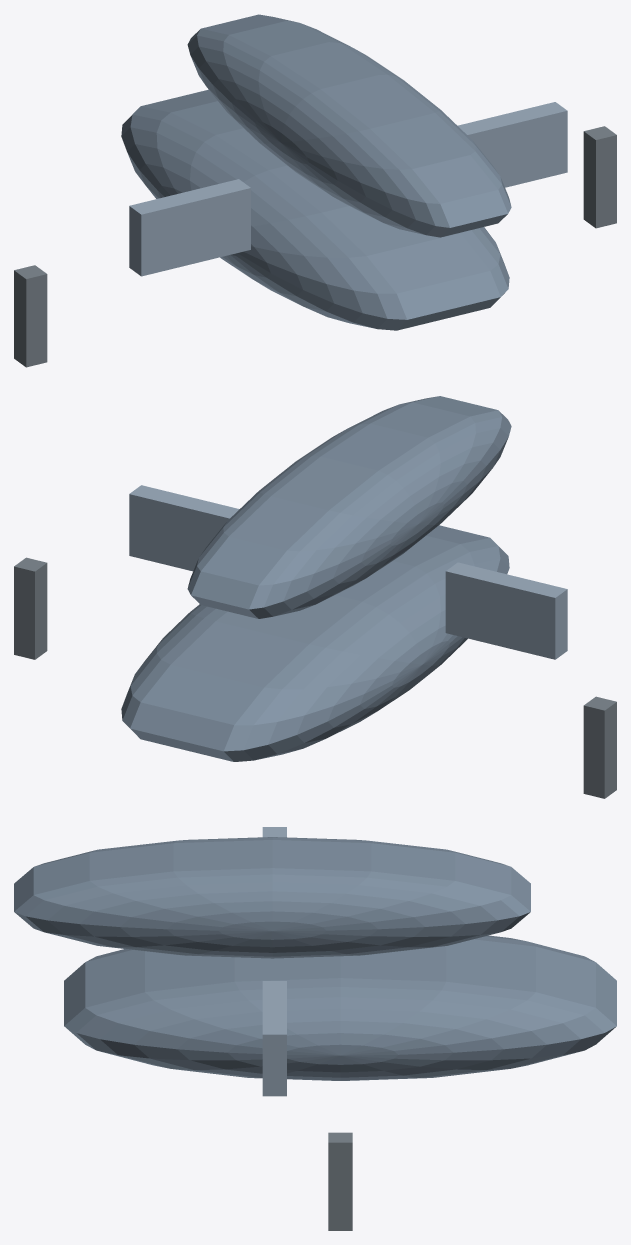
Rendered from sofa.glb.
3 views of the same model, one above another, from view 1: azimuth 30°, elevation 25°; view 2: azimuth 150°, elevation 25°; view 3: azimuth 270°, elevation 25° (orthographic).
Visible parts, largest first — view 1: Back, Seat, Cushion-0.75, Cushion0.75, Leg-1.35, Leg1.35; view 2: Seat, Back, Cushion-0.75, Cushion0.75, Leg-1.35, Leg1.35; view 3: Seat, Back, Cushion0.75, Leg1.35.
Boxes of the visible parts, bbox=[...] form: Back: bbox=[187, 14, 511, 237]; Seat: bbox=[121, 89, 509, 330]; Cushion-0.75: bbox=[129, 179, 250, 276]; Cushion0.75: bbox=[458, 102, 567, 187]; Leg-1.35: bbox=[14, 265, 47, 367]; Leg1.35: bbox=[583, 126, 616, 228]; Seat: bbox=[121, 525, 509, 761]; Back: bbox=[187, 396, 511, 618]; Cushion-0.75: bbox=[445, 562, 567, 659]; Cushion0.75: bbox=[129, 485, 239, 571]; Leg-1.35: bbox=[583, 696, 616, 798]; Leg1.35: bbox=[14, 557, 47, 659]; Seat: bbox=[64, 935, 616, 1080]; Back: bbox=[14, 837, 530, 958]; Cushion0.75: bbox=[262, 981, 286, 1096]; Leg1.35: bbox=[328, 1132, 352, 1230].
Bounding box in the file's own units: 2.8 × 1.06 × 2.48.
